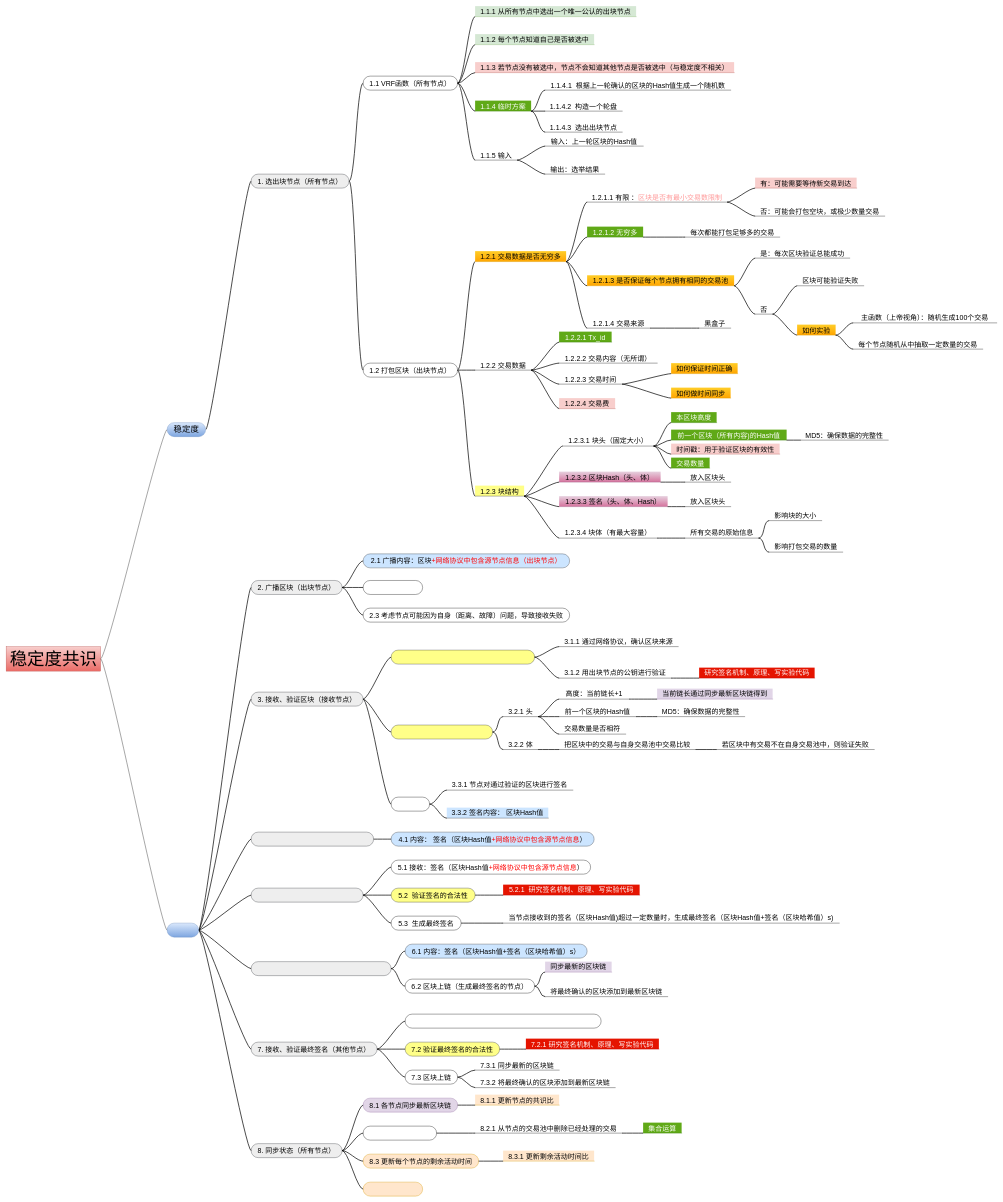
This 1003x1202 diagram has some shape labels left out. Here are the shapes that lost their labels. From the top down, the centre of each, then its label:
At [393,587]: "2.2 广播无阻塞".
At [463,657]: "3.1 验证区块签名（出块节点身份合法性）".
At [442,732]: "3.2 验证区块内容（有效性）".
At [410,804]: "3.3 签名".
At [312,839]: "4. 广播签名（接收节点/签名节点）".
At [307,895]: "5. 接收、验证签名（所有节点）".
At [183,930]: "网络".
At [321,968]: "6. 广播最终签名（生成最终签名的节点）".
At [503,1021]: "7.1 接收：最终签名（ 区块Hash值+签名（区块哈希值）s ）".
At [400,1133]: "8.2 每个节点的交易".
At [393,1189]: "8.4 更新稳定度".
